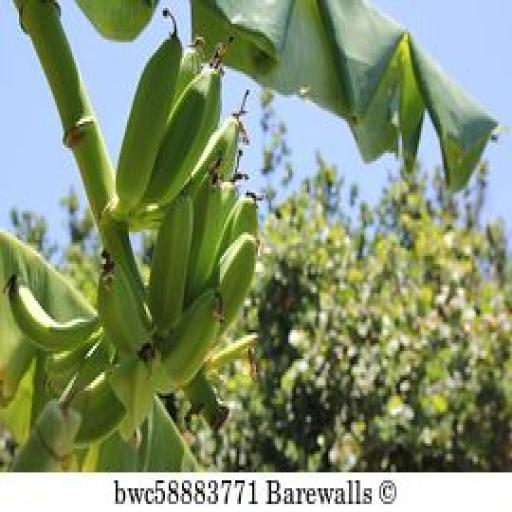banana-unripe: (5, 37, 288, 464)
